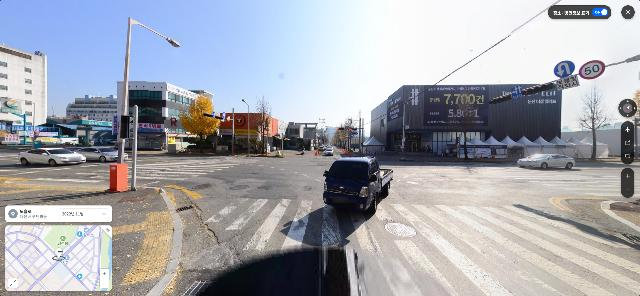ginkgo: (177, 92, 220, 153)
other: (577, 96, 618, 160), (249, 93, 275, 155), (333, 116, 358, 152)
